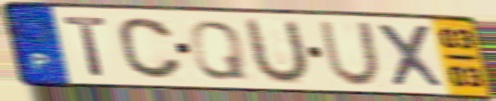C: (114, 15, 186, 81)
Q: (186, 18, 251, 82)
T: (61, 14, 111, 78)
U: (243, 15, 313, 87), (317, 20, 384, 88)
X: (373, 21, 450, 91)
